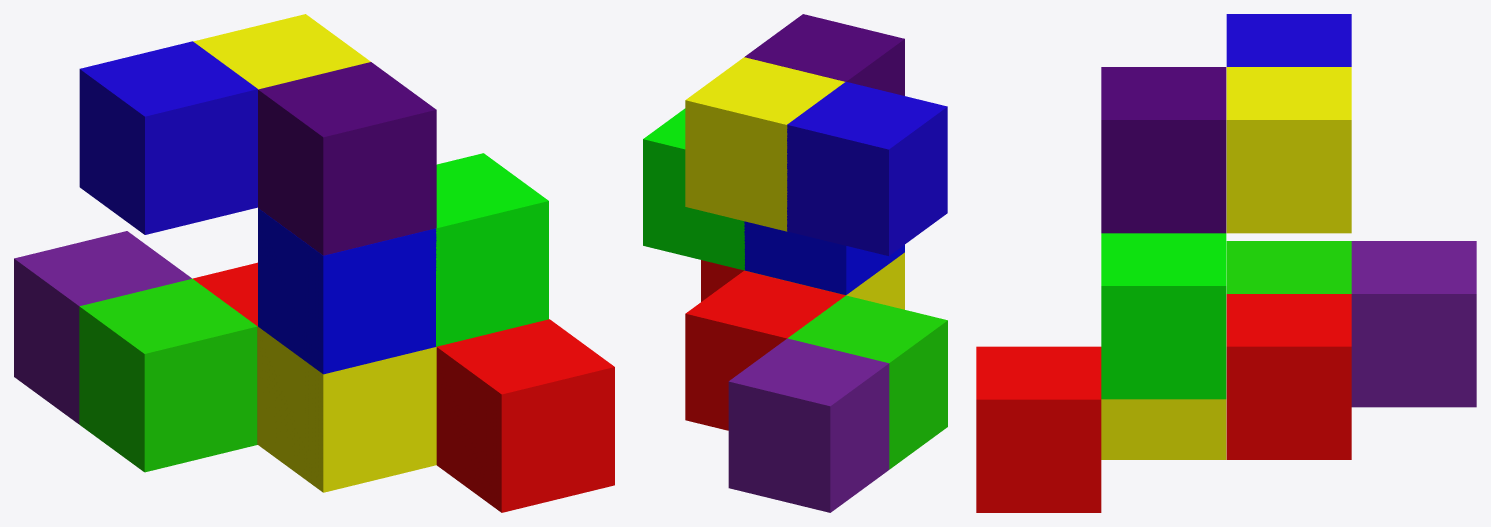
3 renders of one model, left to right at view 1: azimuth 30°, elevation 25°; view 2: azimuth 150°, elevation 25°; view 3: azimuth 270°, elevation 25°, orthographic. The views are drawn at different scales.
Parts seen in each view (by area): view 1: Cube.007, Cube.009, Cube.003, Cube.006, Cube.002, Cube.004, Cube.005, Cube, Cube.008, Cube.001; view 2: Cube, Cube.009, Cube.008, Cube.001, Cube.006, Cube.005, Cube.007, Cube.004, Cube.002, Cube.003; view 3: Cube, Cube.003, Cube.005, Cube.007, Cube.008, Cube.001, Cube.002, Cube.006, Cube.009.
Part boxes in pixels (x1=…): Cube.007: x1=258, y1=62, x2=436, y2=255; Cube.009: x1=79, y1=41, x2=257, y2=234; Cube.003: x1=436, y1=319, x2=614, y2=512; Cube.006: x1=79, y1=278, x2=257, y2=472; Cube.002: x1=258, y1=327, x2=436, y2=492; Cube.004: x1=258, y1=208, x2=436, y2=374; Cube.005: x1=436, y1=153, x2=548, y2=346; Cube: x1=14, y1=231, x2=191, y2=424; Cube.008: x1=193, y1=14, x2=370, y2=89; Cube.001: x1=193, y1=262, x2=257, y2=444; Cube: x1=728, y1=338, x2=889, y2=512; Cube.009: x1=787, y1=82, x2=947, y2=255; Cube.008: x1=685, y1=57, x2=844, y2=231; Cube.001: x1=685, y1=270, x2=845, y2=430; Cube.006: x1=788, y1=295, x2=947, y2=469; Cube.005: x1=643, y1=108, x2=744, y2=270; Cube.007: x1=744, y1=14, x2=904, y2=95; Cube.004: x1=744, y1=221, x2=904, y2=294; Cube.002: x1=748, y1=252, x2=904, y2=309; Cube.003: x1=701, y1=260, x2=743, y2=301; Cube: x1=1351, y1=241, x2=1476, y2=407; Cube.003: x1=976, y1=346, x2=1101, y2=512; Cube.005: x1=1101, y1=233, x2=1226, y2=399; Cube.007: x1=1101, y1=67, x2=1226, y2=233; Cube.008: x1=1226, y1=67, x2=1351, y2=233; Cube.001: x1=1226, y1=294, x2=1351, y2=459; Cube.002: x1=1101, y1=399, x2=1226, y2=459; Cube.006: x1=1226, y1=241, x2=1351, y2=293; Cube.009: x1=1226, y1=14, x2=1351, y2=66.
Bounding box in the file's own units: 600 × 601 × 800.
